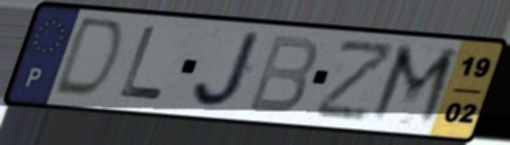B: (243, 32, 321, 117)
D: (47, 14, 129, 103)
J: (190, 30, 266, 111)
L: (116, 24, 167, 104)
M: (364, 41, 464, 130)
Z: (311, 40, 401, 124)
